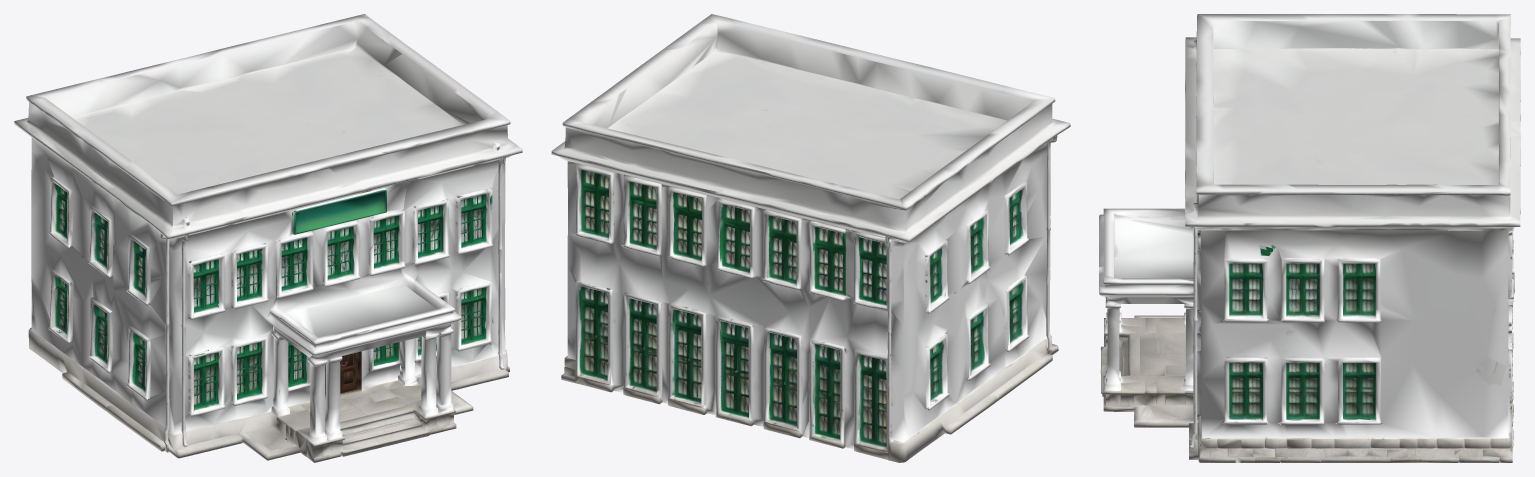
File: immigration_office.glb
3 views of the same model, side by side, from view 1: azimuth 30°, elevation 25°; view 2: azimuth 150°, elevation 25°; view 3: azimuth 270°, elevation 25° (orthographic). The views are drawn at different scales.
Visible parts, largest first — view 1: ImmigrationOffice; view 2: ImmigrationOffice; view 3: ImmigrationOffice.
Boxes of the visible parts, x1=… form: ImmigrationOffice: x1=14, y1=14, x2=522, y2=462; ImmigrationOffice: x1=551, y1=14, x2=1070, y2=462; ImmigrationOffice: x1=1099, y1=14, x2=1520, y2=462.
Size of the model in its own units: 15.03 by 10.22 by 14.4.
Materials: 1 (1 with a texture image).
